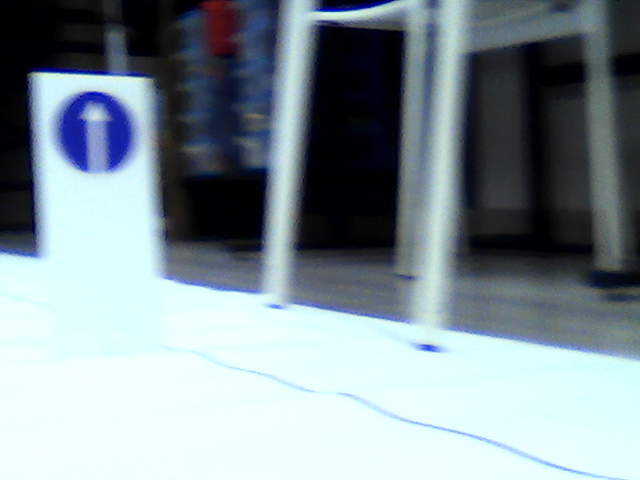forw: (55, 91, 134, 176)
